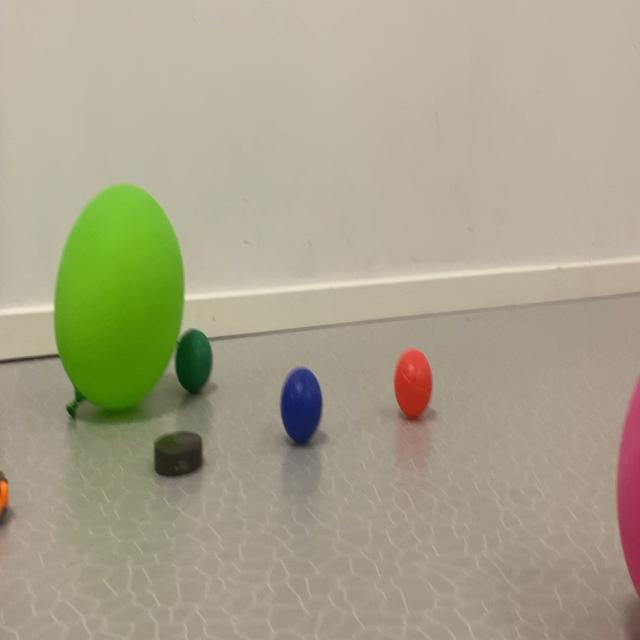7: (379, 303, 449, 455)
green ball: (270, 343, 342, 484)
red ball: (175, 313, 232, 423)
